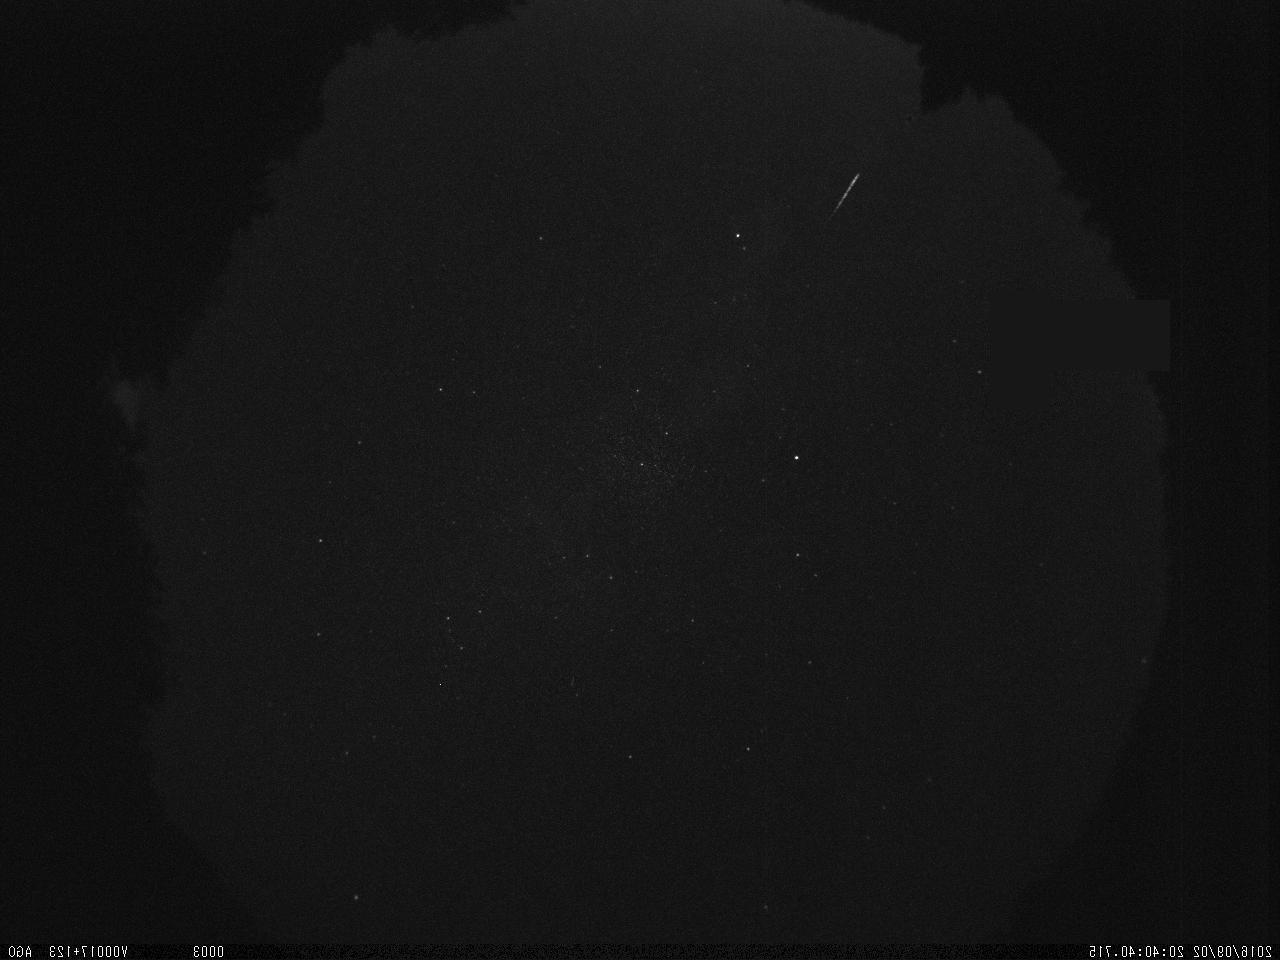meteor: (814, 166, 867, 228)
